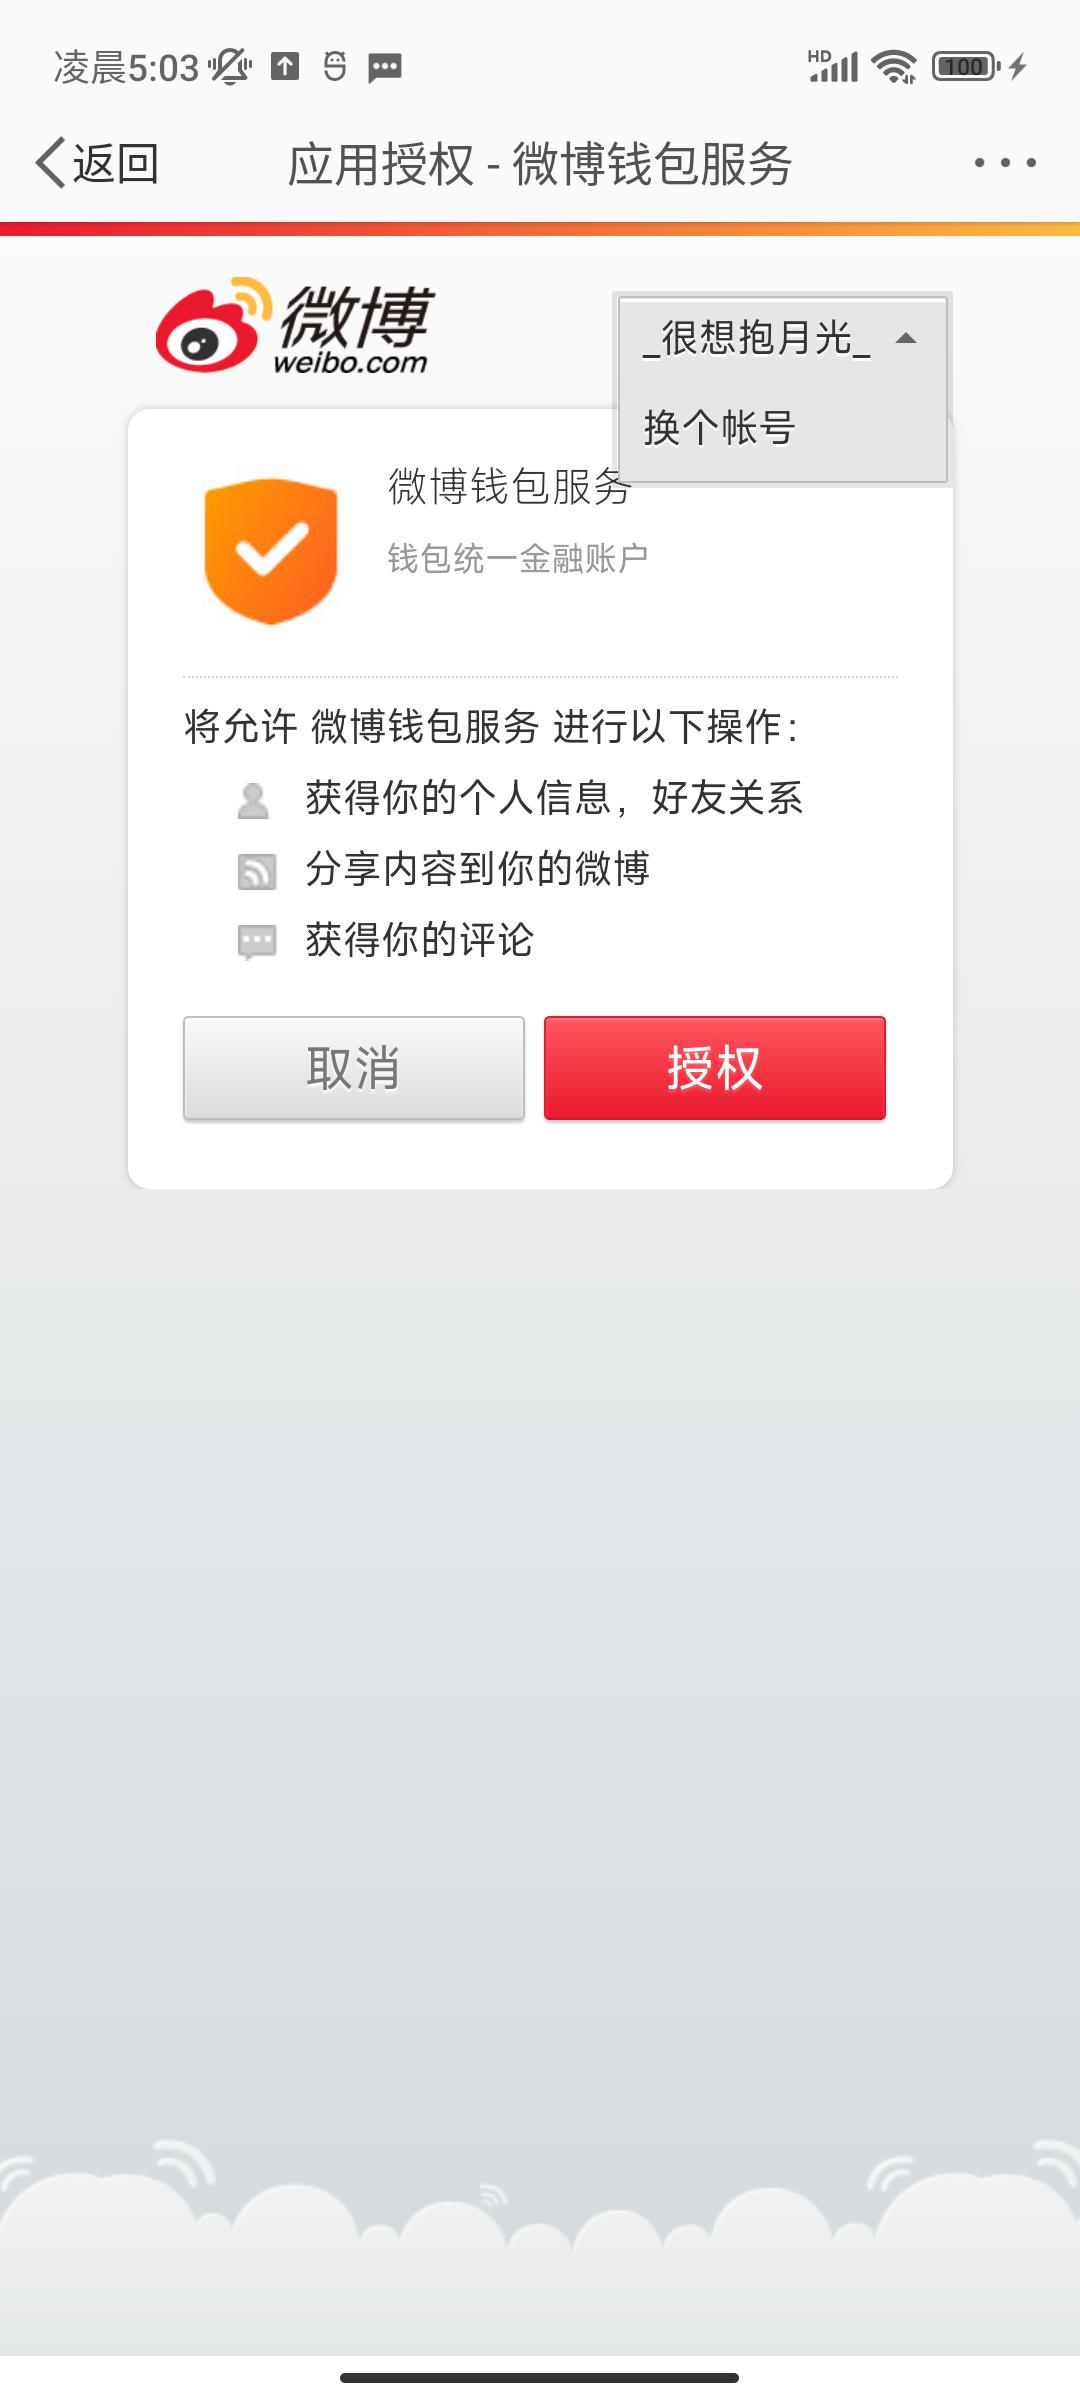ui_group: (148, 439, 906, 1163), (609, 291, 955, 478)
